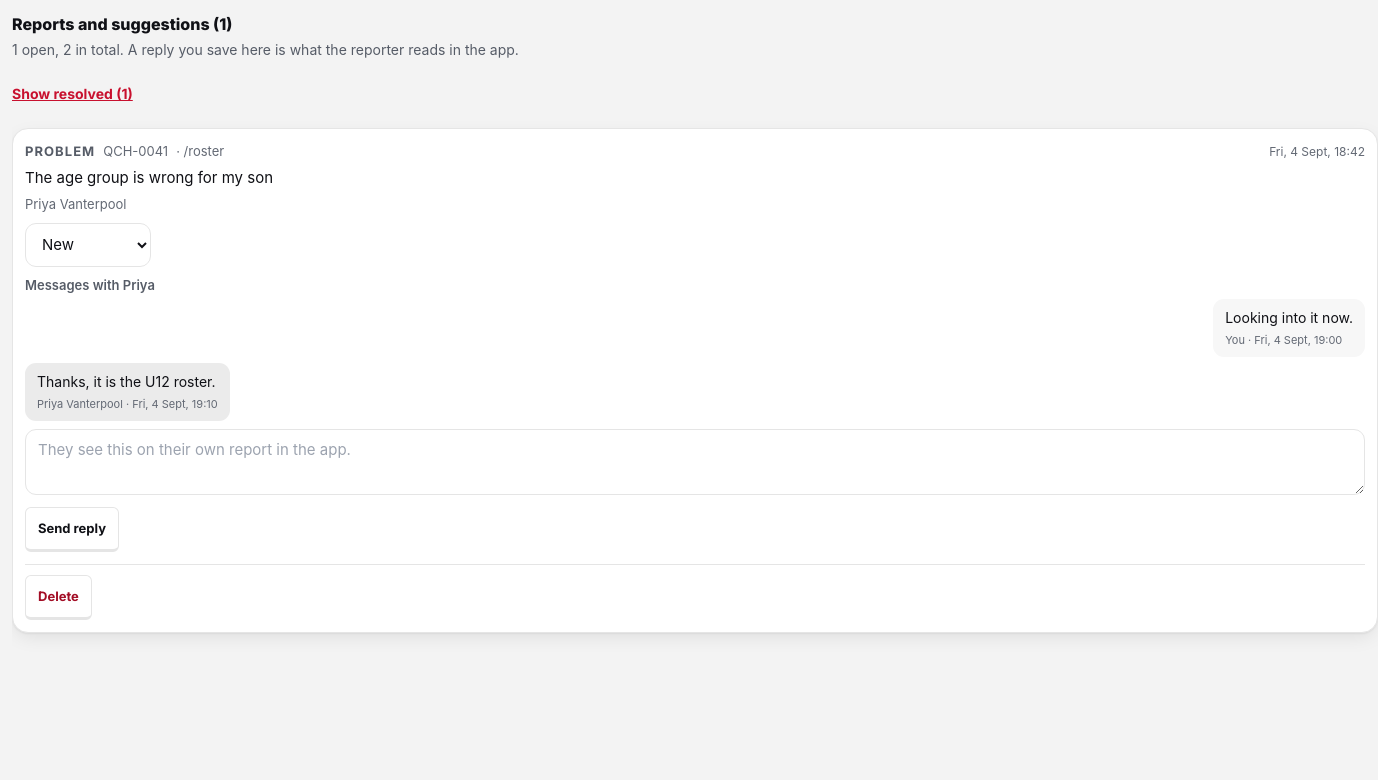
Scenario: the thread on a report › sends a reply into the thread as the admin, and the status is not touched
Type "Fixed it, thanks for telling us" into the text box named "message on report 41".
click(695, 462); type("Fixed it, thanks for telling us")  # box [25, 429, 1365, 495]
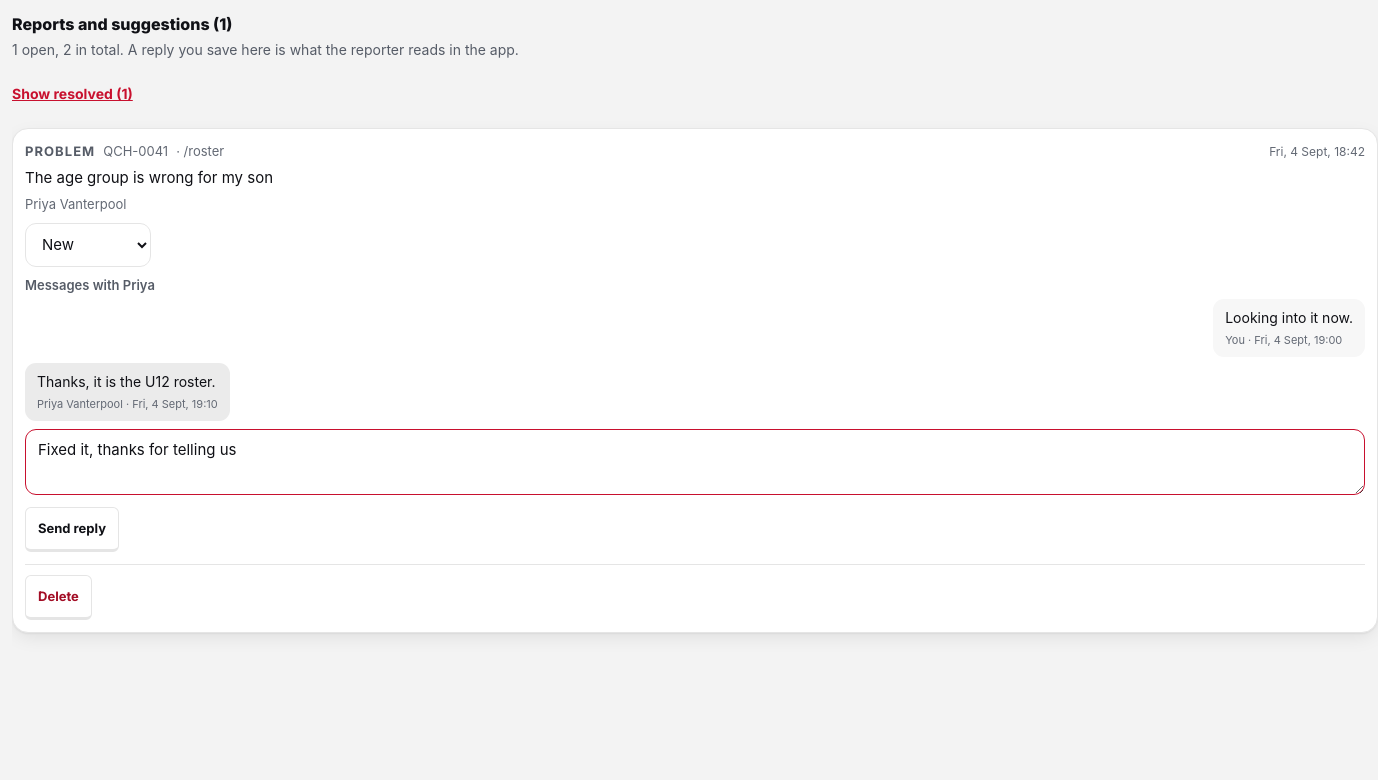
Click the button "Send reply".
click(72, 529)  # box [25, 507, 119, 552]
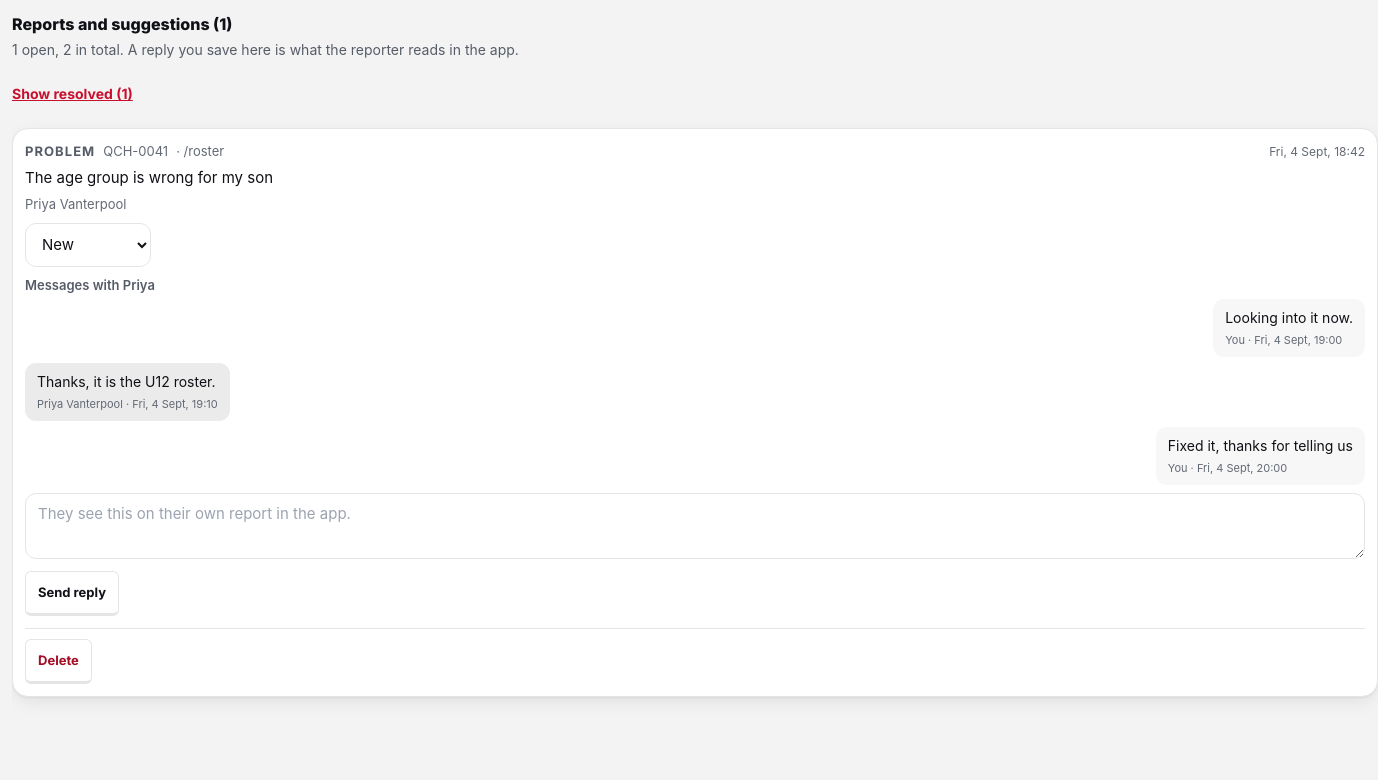
Check: the text "Fixed it, thanks for telling us" is shown, box [1168, 435, 1353, 458]
Check: the number of list items with test id "feedback-message" is 3, box [1213, 299, 1365, 357]; [25, 363, 230, 421]; [1156, 427, 1365, 485]
Check: the text box named "message on report 41" is empty, box [25, 493, 1365, 559]
